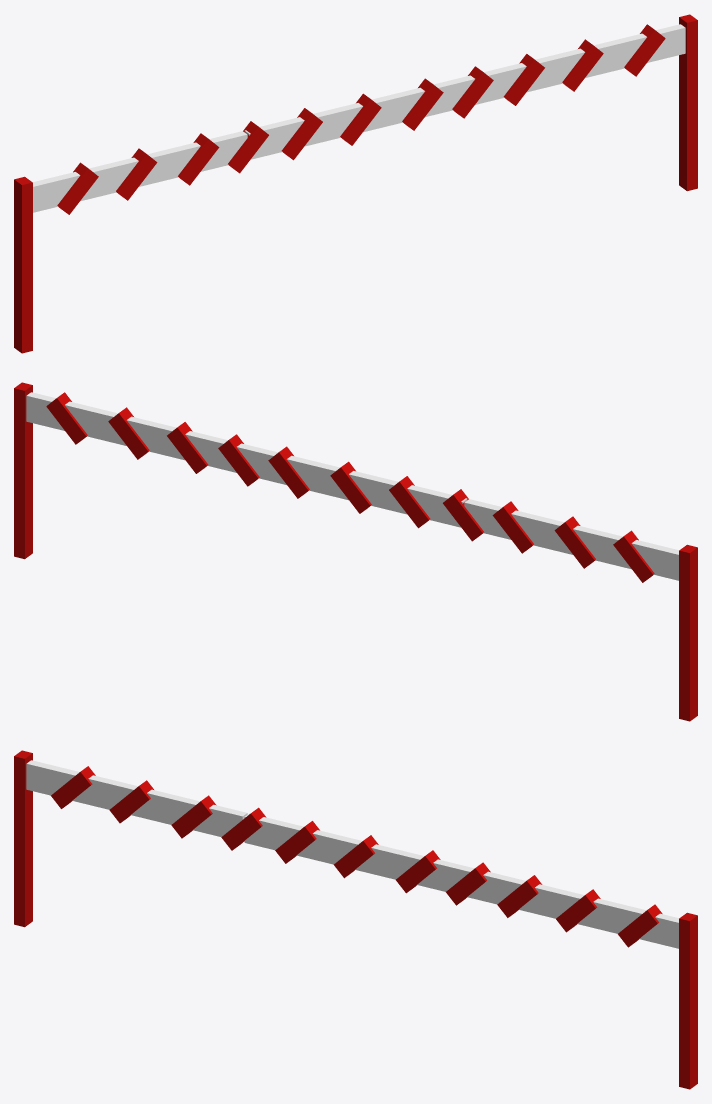
Rendered from slidefence.obj.
The picture shows the model from 3 angles, top to bottom: view 1: azimuth 30°, elevation 25°; view 2: azimuth 150°, elevation 25°; view 3: azimuth 330°, elevation 25°; orthographic projection.
Parts seen in each view (by area): view 1: Cube.014_Cube.022, Cube.009_Cube.010, Cube.004_Cube.017, Cube.015_Cube.023, Cube.005_Cube.018, Cube.008_Cube.024, Cube.011_Cube.012, Cube.001_Cube.014, Cube.010_Cube.011, Cube.002_Cube.015, Cube.003_Cube.016, Cube.013_Cube.021 (+4 smaller); view 2: Cube.014_Cube.022, Cube.009_Cube.010, Cube.004_Cube.017, Cube.015_Cube.023, Cube.005_Cube.018, Cube.008_Cube.024, Cube.011_Cube.012, Cube.001_Cube.014, Cube.010_Cube.011, Cube.002_Cube.015, Cube.003_Cube.016, Cube.013_Cube.021 (+4 smaller); view 3: Cube.014_Cube.022, Cube.009_Cube.010, Cube.004_Cube.017, Cube.005_Cube.018, Cube.015_Cube.023, Cube.002_Cube.015, Cube.010_Cube.011, Cube.007_Cube.020, Cube.012_Cube.013, Cube.003_Cube.016, Cube.008_Cube.024, Cube.016_Cube.025 (+4 smaller).
Part boxes in pixels (x1,y1,x2,y2): Cube.014_Cube.022: (33,131,247,212); Cube.009_Cube.010: (244,76,471,159); Cube.004_Cube.017: (467,24,685,104); Cube.015_Cube.023: (14,176,32,353); Cube.005_Cube.018: (679,14,697,191); Cube.008_Cube.024: (228,121,268,173); Cube.011_Cube.012: (281,108,322,160); Cube.001_Cube.014: (624,24,665,76); Cube.010_Cube.011: (340,93,381,145); Cube.002_Cube.015: (503,54,544,105); Cube.003_Cube.016: (562,39,603,91); Cube.013_Cube.021: (116,148,157,200); Cube.014_Cube.022: (464,499,678,580); Cube.009_Cube.010: (240,444,467,527); Cube.004_Cube.017: (26,392,244,472); Cube.015_Cube.023: (679,544,697,721); Cube.005_Cube.018: (14,382,32,559); Cube.008_Cube.024: (443,489,483,541); Cube.011_Cube.012: (389,476,430,528); Cube.001_Cube.014: (46,392,87,444); Cube.010_Cube.011: (330,461,371,513); Cube.002_Cube.015: (167,422,208,473); Cube.003_Cube.016: (108,407,149,459); Cube.013_Cube.021: (554,516,595,568); Cube.014_Cube.022: (26,760,247,836); Cube.009_Cube.010: (244,813,471,891); Cube.004_Cube.017: (467,867,678,948); Cube.005_Cube.018: (679,912,697,1089); Cube.015_Cube.023: (14,750,32,927); Cube.002_Cube.015: (497,875,542,917); Cube.010_Cube.011: (334,835,378,878); Cube.007_Cube.020: (51,766,95,808); Cube.012_Cube.013: (396,850,440,893); Cube.003_Cube.016: (556,889,600,932); Cube.008_Cube.024: (221,807,266,850); Cube.016_Cube.025: (446,862,490,905).
Size of the model in its own units: 18.26 by 4.36 by 0.3729.
